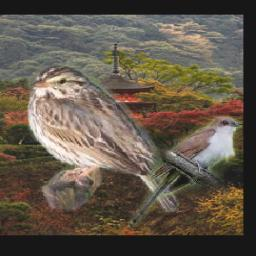Cuckoo: (129, 116, 243, 227)
Sparrow: (25, 64, 180, 213)
